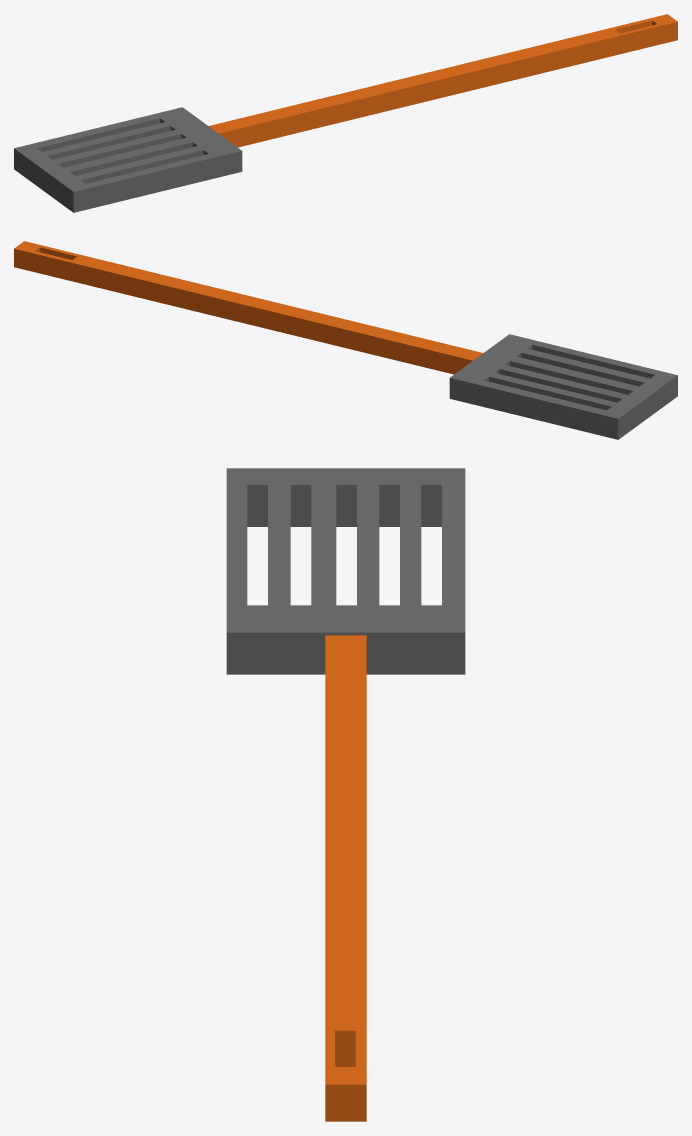
File: Spatel.gltf
3 renders of one model, top to bottom at view 1: azimuth 30°, elevation 25°; view 2: azimuth 150°, elevation 25°; view 3: azimuth 270°, elevation 25°, orthographic. The views are drawn at different scales.
Parts seen in each view (by area): view 1: spatel; view 2: spatel; view 3: spatel.
Boxes of the visible parts, x1,y1,x2,y2 form: spatel: [14, 14, 677, 212]; spatel: [14, 241, 677, 439]; spatel: [226, 468, 465, 1121].
Bounding box in the file's own units: 1.18 × 0.0376 × 0.1937.
